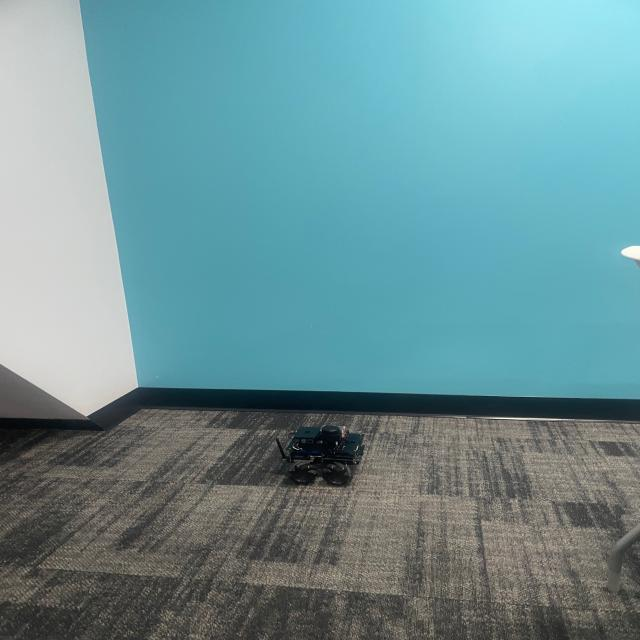ArduinoCar: (277, 419, 369, 484)
